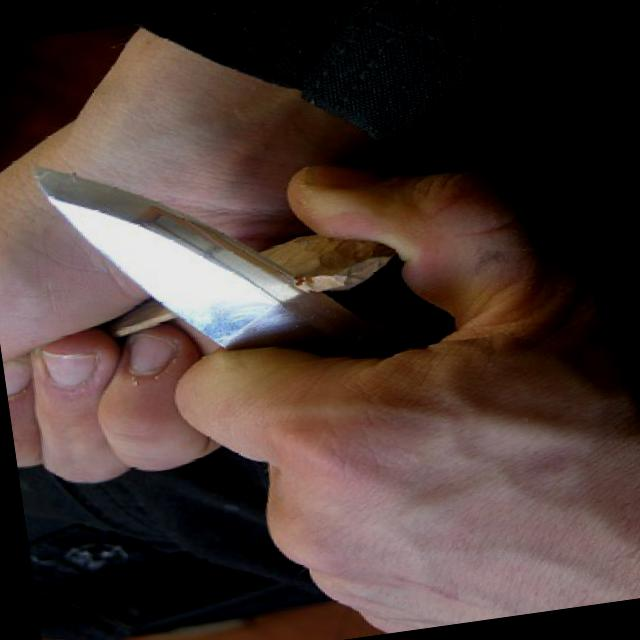knife: (16, 103, 458, 454)
